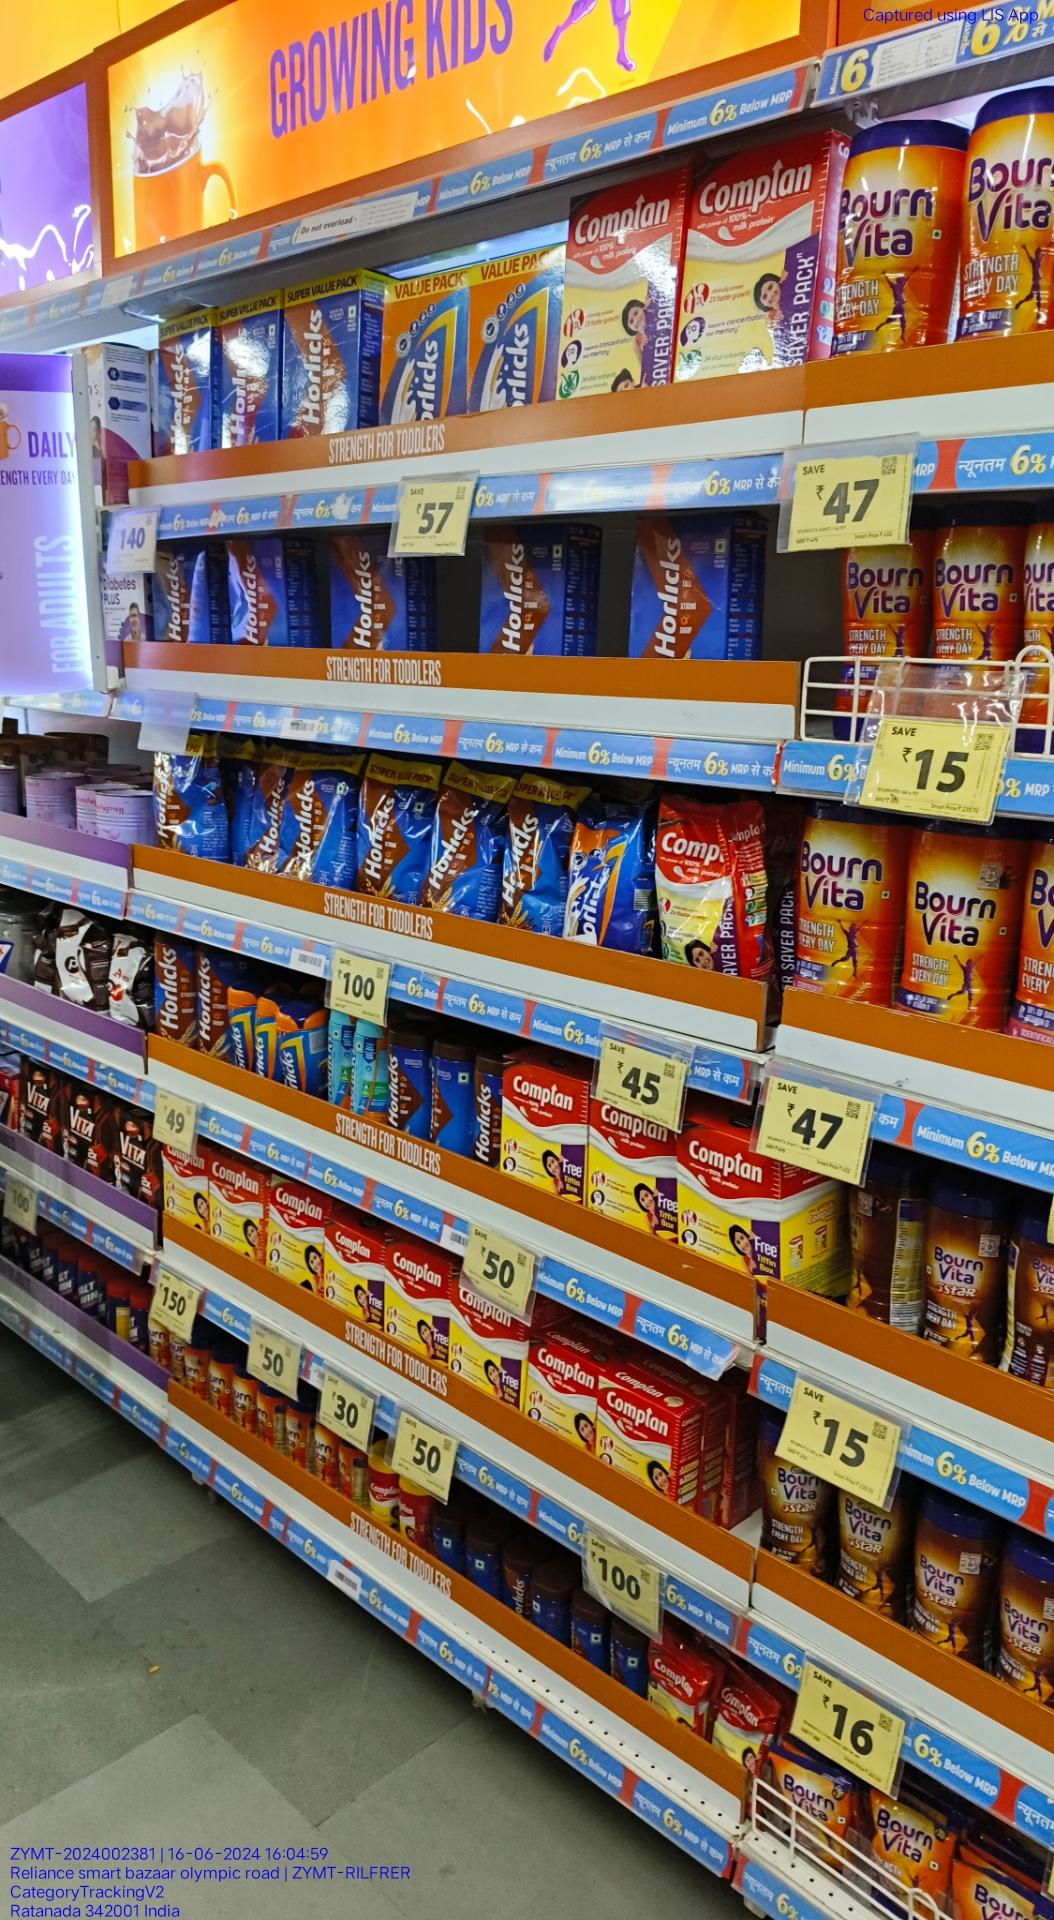BOURN_VITA_1_KG_JAR: (828, 115, 949, 353), (961, 86, 1054, 341), (932, 499, 1016, 732), (831, 541, 909, 743)
BOURN_VITA_FIVE_STAR_MAGIC_500_G_JAR: (920, 1183, 1010, 1369), (909, 1493, 989, 1674), (754, 1414, 829, 1576), (992, 1533, 1054, 1705), (840, 1491, 905, 1623)
COMPLAN_CHOCOLATE_1_KG_PACK: (679, 135, 809, 390), (561, 182, 672, 398)
COMPLAN_CHOCOLATE_200_GMS_PACK: (526, 1336, 596, 1448)
COMPLAN_CHOCOLATE_500_GMS_PACK: (680, 1120, 778, 1280), (587, 1098, 675, 1240), (505, 1064, 584, 1205), (450, 1286, 522, 1410), (384, 1239, 449, 1362), (327, 1219, 383, 1327)
COMPLAN_KESAR_BADAM_200_GMS_PACK: (596, 1376, 671, 1488)
COMPLAN_RC_POUCH_700_GMS_12: (656, 802, 732, 981)
HORLICK_CHOCOLATE_1_KG_JAR: (154, 928, 193, 1043), (193, 943, 230, 1057)
HORLICK_CHOCOLATE_1_KG_PACK: (279, 274, 354, 442), (217, 294, 276, 453), (157, 313, 210, 458)
HORLICK_CHOCOLATE_500_G_JAR: (427, 1042, 471, 1155), (386, 1035, 426, 1139), (472, 1055, 505, 1165)
HORLICK_CHOCOLATE_500_G_PACK: (632, 522, 728, 666), (480, 527, 569, 658), (331, 533, 404, 650), (226, 537, 283, 646), (151, 540, 209, 646)
HORLICK_CHOCOLATE_750_G_POUCH: (426, 762, 496, 920), (358, 750, 423, 904), (498, 773, 558, 933), (282, 750, 343, 881), (151, 745, 205, 858)
HORLICK_CLASSIC_MALT_500_G_PACK: (471, 254, 557, 414), (382, 267, 465, 422)
HORLICK_CLASSIC_MALT_750_G_POUCH: (566, 806, 636, 948)
